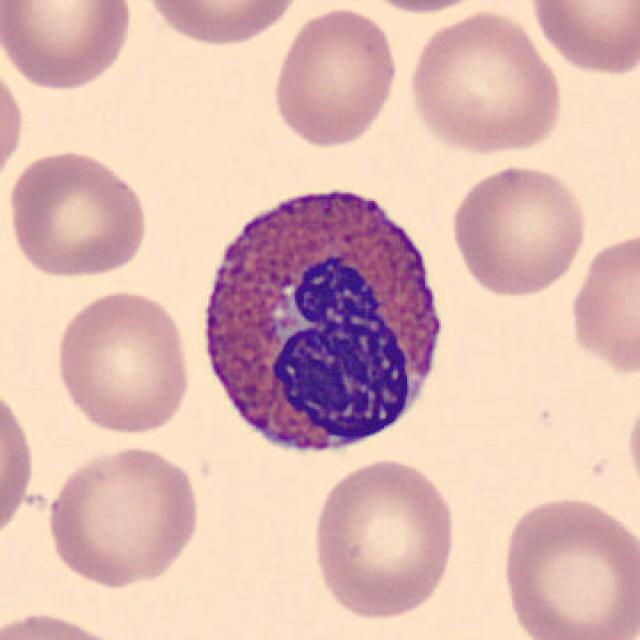Eosinophil: (186, 166, 458, 474)
RBC: (308, 453, 460, 624), (41, 440, 204, 590), (404, 7, 567, 157), (50, 286, 194, 437), (496, 490, 638, 640), (3, 145, 153, 282), (266, 3, 402, 152), (446, 160, 590, 300), (0, 0, 138, 93), (564, 226, 638, 379), (524, 0, 638, 79), (133, 0, 307, 49), (0, 376, 39, 550), (1, 606, 135, 640), (0, 51, 28, 194), (346, 0, 499, 16), (624, 379, 640, 508)
